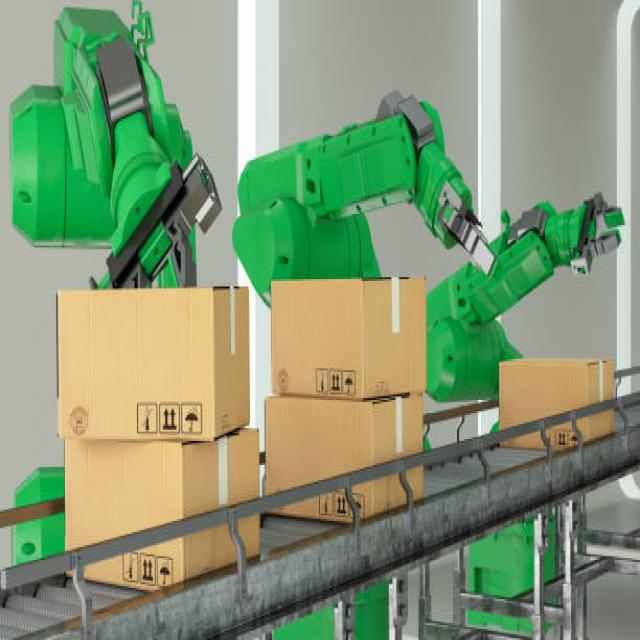Robotic-arm: (10, 4, 225, 568), (231, 79, 491, 395), (422, 188, 629, 407)
